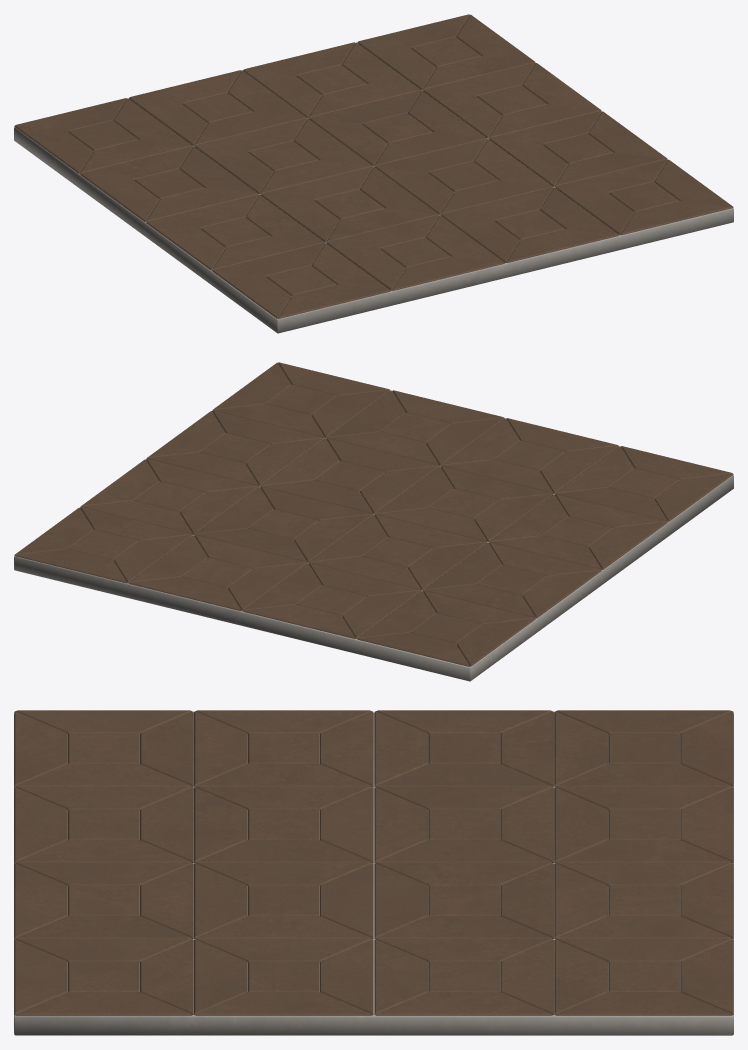
File: SK2 CEILING LARGE.fbx
3 views of the same model, one above another, from view 1: azimuth 30°, elevation 25°; view 2: azimuth 150°, elevation 25°; view 3: azimuth 270°, elevation 25° (orthographic). The views are drawn at different scales.
Parts seen in each view (by area): view 1: SK2 CEILING LARGE; view 2: SK2 CEILING LARGE; view 3: SK2 CEILING LARGE.
Boxes of the visible parts, x1=… form: SK2 CEILING LARGE: x1=14, y1=14, x2=733, y2=333; SK2 CEILING LARGE: x1=14, y1=362, x2=733, y2=681; SK2 CEILING LARGE: x1=14, y1=710, x2=733, y2=1035.
Size of the model in its own units: 400 by 13.44 by 400.
